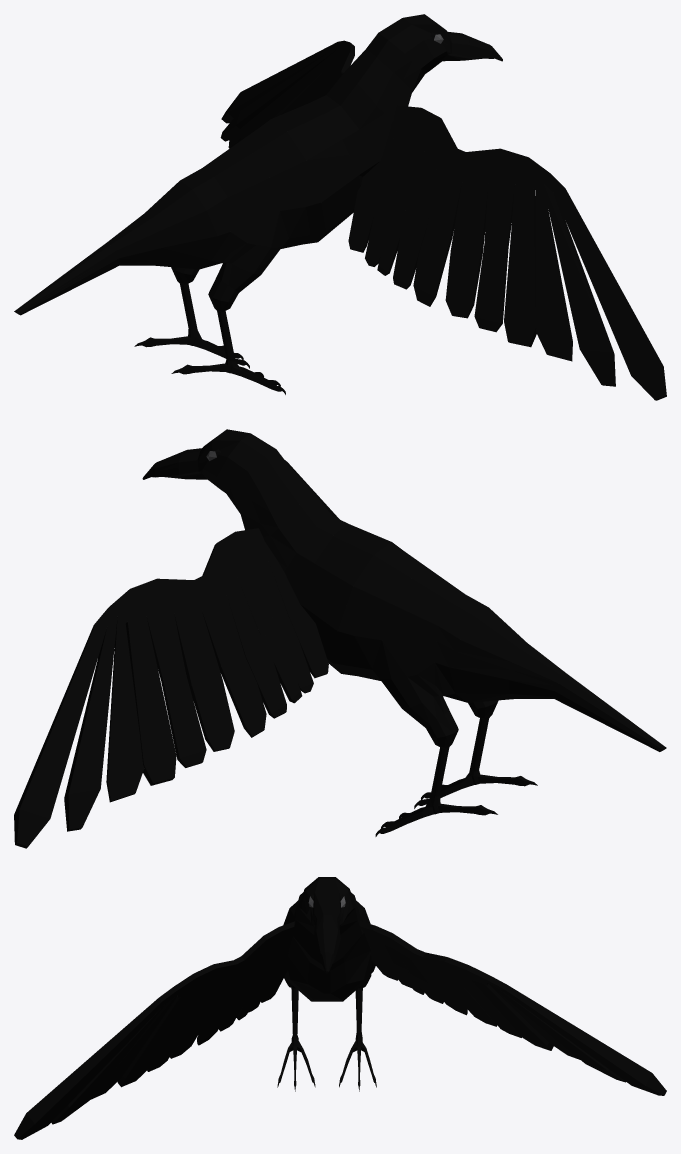
The model's file is crow_down_000003.obj.
The picture shows the model from 3 angles, top to bottom: view 1: azimuth 30°, elevation 25°; view 2: azimuth 150°, elevation 25°; view 3: azimuth 270°, elevation 25°; orthographic projection. The views are drawn at different scales.
Parts seen in each view (by area): view 1: Cylinder; view 2: Cylinder; view 3: Cylinder.
Part boxes in pixels (bbox=[...]): Cylinder: bbox=[14, 14, 666, 400]; Cylinder: bbox=[14, 429, 666, 848]; Cylinder: bbox=[14, 877, 666, 1139].
Size of the model in its own units: 1.57 by 0.978 by 2.11.
